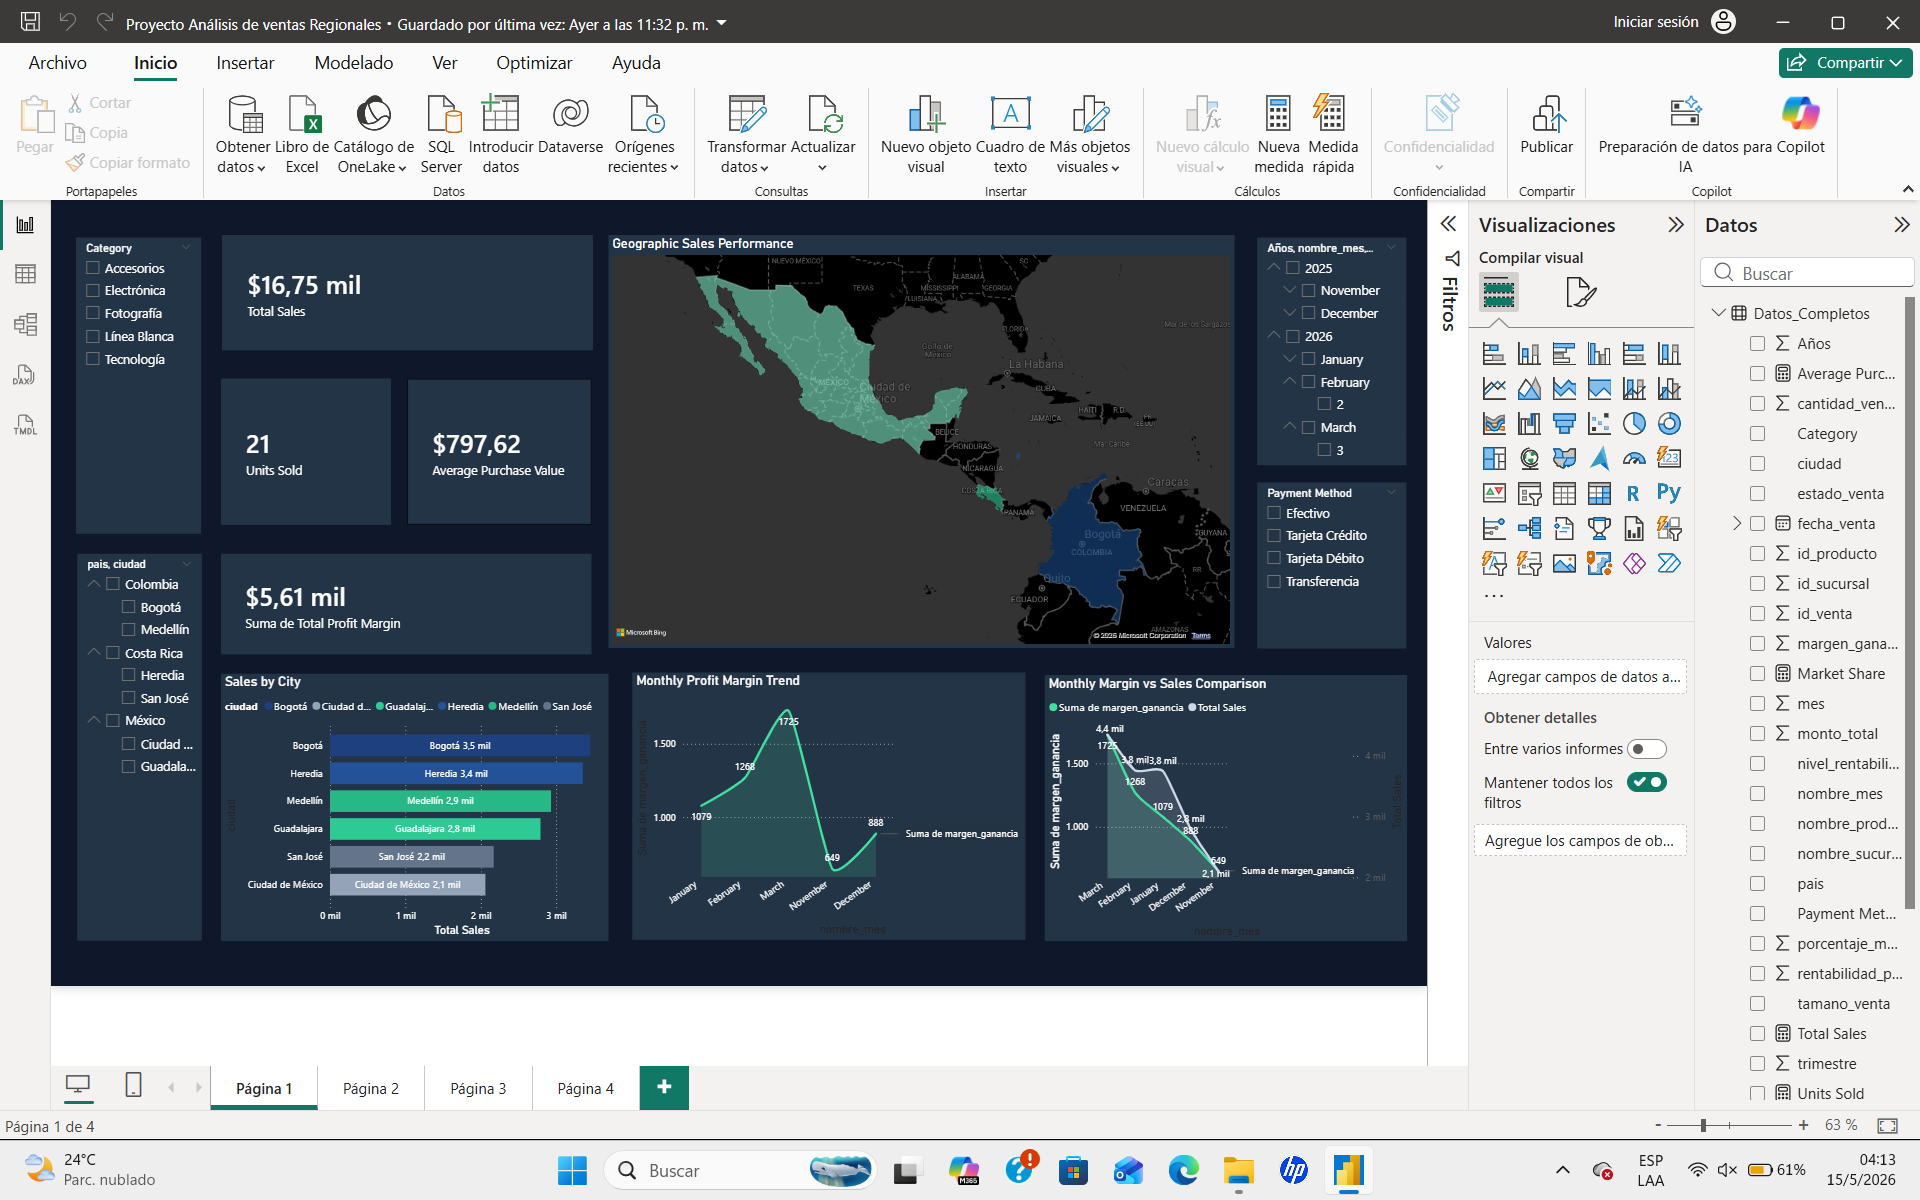

What the dashboard file says about the page in this screenshot:
{"tool":"powerbi","page":{"name":"Página 1","canvas":[1750,1000],"ordinal":0},"visuals":[{"type":"lineChart","title":"Monthly Profit Margin Trend","fields":{"Y":["Sum(Datos_Completos.margen_ganancia)"],"Category":["Datos_Completos.nombre_mes"]},"box":[738.7,601.4,500.1,339.9],"z":0},{"type":"barChart","title":"Sales by City","fields":{"Category":["Datos_Completos.ciudad"],"Y":["Datos_Completos.Ventas Totales"],"Series":["Desempeno_Por_Ciudad.ciudad"]},"box":[216.2,602.3,492.6,339.8],"z":1000},{"type":"cardVisual","fields":{"Data":["Datos_Completos.Valor Promedio Compra"]},"box":[452.5,227,234.7,185.3],"z":2000},{"type":"cardVisual","fields":{"Data":["Datos_Completos.Unidades Vendidas"]},"box":[216.2,227,216.2,185.3],"z":3000},{"type":"cardVisual","fields":{"Data":["Sum(Resumen_Por_Pais_Y_Año.margen_total)"]},"box":[216.2,449.4,471,128.2],"z":4000},{"type":"lineChart","title":"Monthly Margin vs Sales Comparison","fields":{"Y2":["Datos_Completos.Ventas Totales"],"Y":["Sum(Datos_Completos.margen_ganancia)"],"Category":["Datos_Completos.nombre_mes"]},"box":[1263.3,604.7,460.9,338.3],"z":5000},{"type":"cardVisual","fields":{"Data":["Datos_Completos.Ventas Totales"]},"box":[217.8,44.8,471,146.7],"z":6000},{"type":"filledMap","title":"Geographic Sales Performance","fields":{"Category":["Datos_Completos.pais"]},"box":[708.9,44.8,795.3,525.1],"z":7000},{"type":"slicer","fields":{"Values":["Datos_Completos.Años","Datos_Completos.nombre_mes","Datos_Completos.mes"]},"box":[1534.6,47.4,189.6,289.3],"z":8000},{"type":"slicer","fields":{"Values":["Datos_Completos.pais","Datos_Completos.ciudad"]},"box":[32.7,449.4,158.5,491.9],"z":9000},{"type":"slicer","fields":{"Values":["Datos_Completos.categoria"]},"box":[32.4,47.9,159.1,376.8],"z":10000},{"type":"slicer","fields":{"Values":["Datos_Completos.tipo_pago"]},"box":[1534.6,359.5,189.6,210.8],"z":11000}]}

Visuals, with their boxes on the page's 1750x1000 design canvas (x1, y1, x2, y2). These are canvas units, not pixel positions in the 1920x1200 screenshot, which may show the page scaled, cropped or inside an application window:
"Monthly Profit Margin Trend" lineChart: box(739, 601, 1239, 941)
"Sales by City" barChart: box(216, 602, 709, 942)
cardVisual - Datos_Completos.Valor Promedio Compra: box(452, 227, 687, 412)
cardVisual - Datos_Completos.Unidades Vendidas: box(216, 227, 432, 412)
cardVisual - Sum(Resumen_Por_Pais_Y_Año.margen_total): box(216, 449, 687, 578)
"Monthly Margin vs Sales Comparison" lineChart: box(1263, 605, 1724, 943)
cardVisual - Datos_Completos.Ventas Totales: box(218, 45, 689, 192)
"Geographic Sales Performance" filledMap: box(709, 45, 1504, 570)
slicer - Datos_Completos.Años x Datos_Completos.nombre_mes: box(1535, 47, 1724, 337)
slicer - Datos_Completos.pais x Datos_Completos.ciudad: box(33, 449, 191, 941)
slicer - Datos_Completos.categoria: box(32, 48, 192, 425)
slicer - Datos_Completos.tipo_pago: box(1535, 360, 1724, 570)
